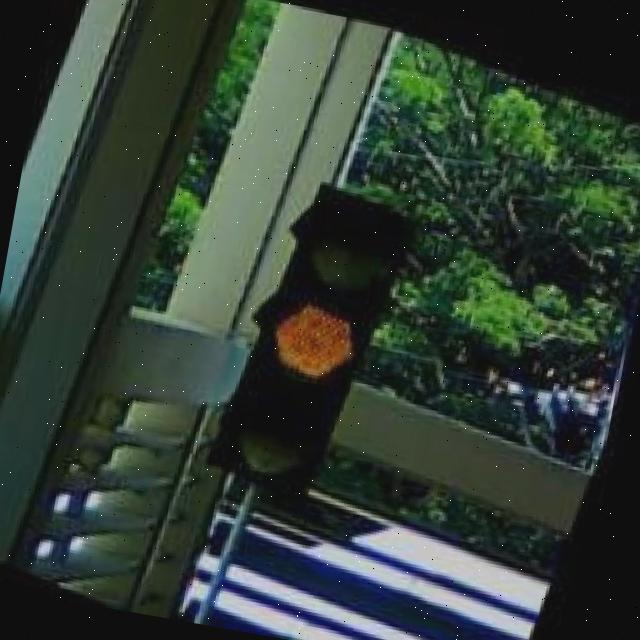yellow_light: (199, 164, 427, 511)
